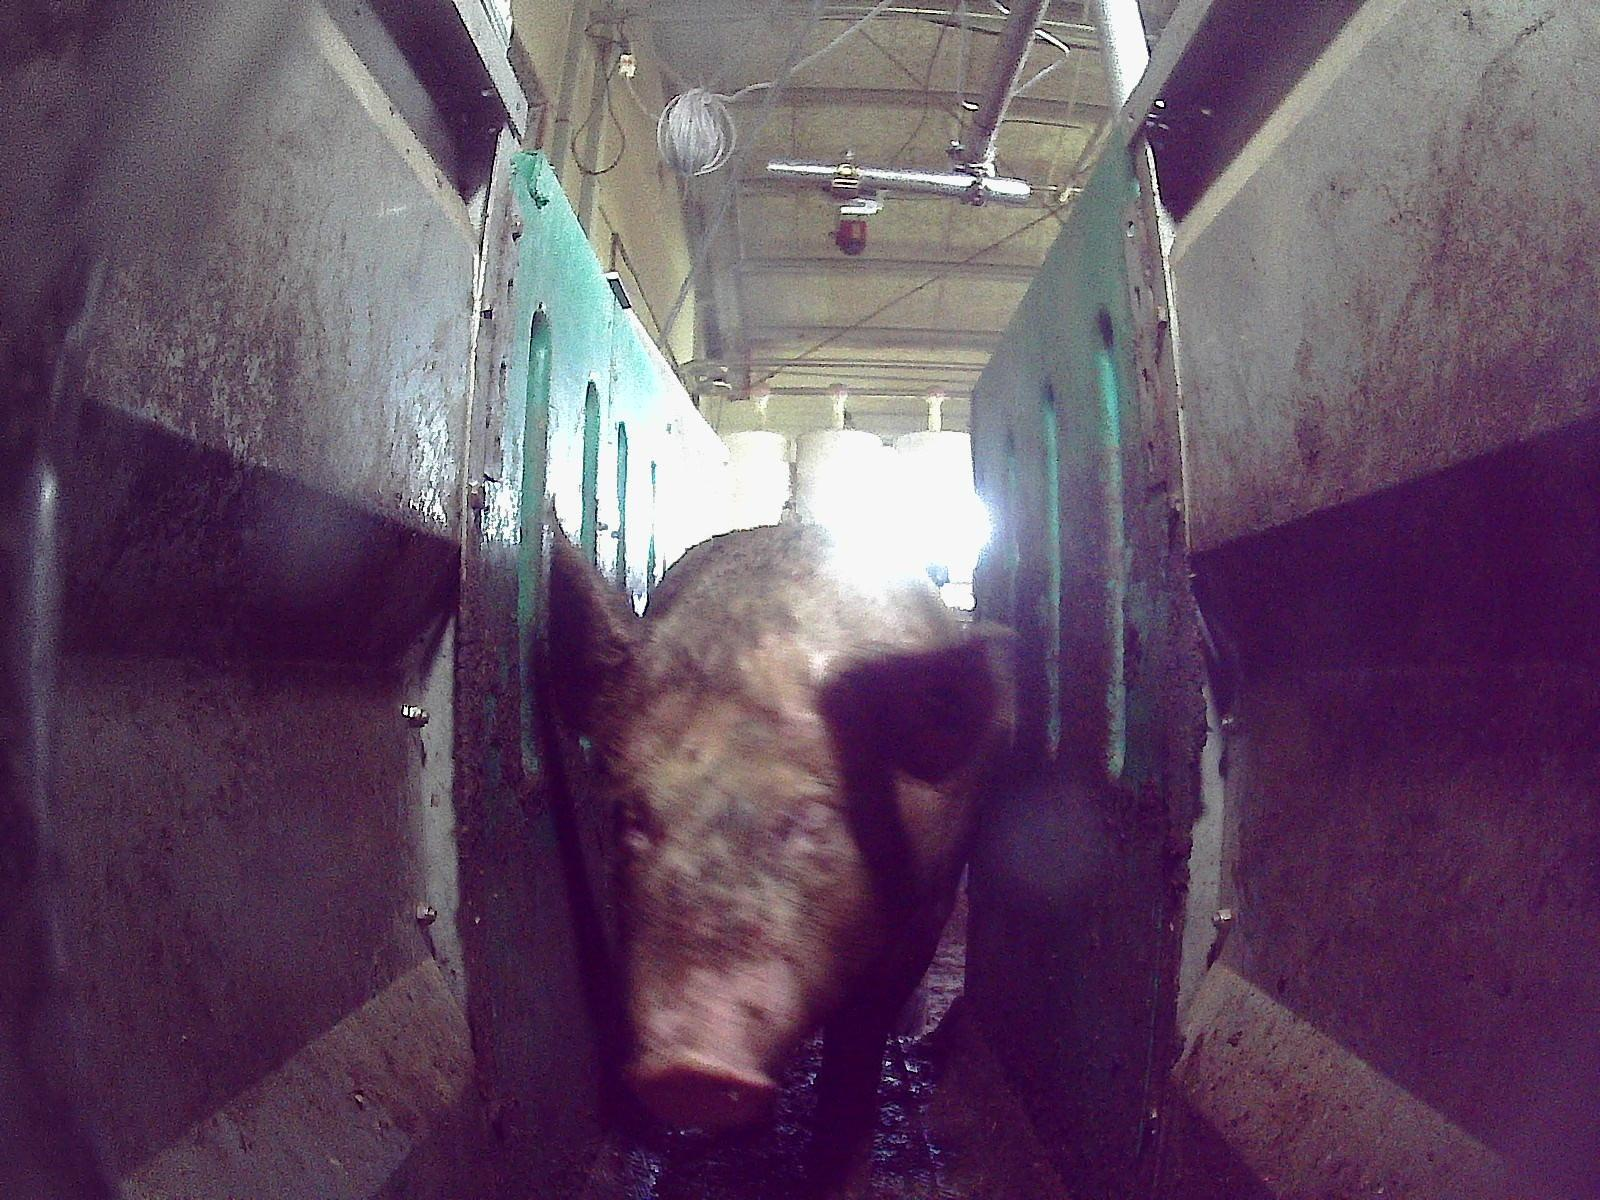Face: (602, 688, 890, 1118)
